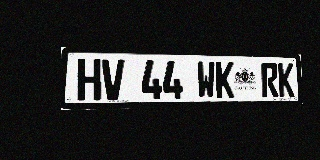4: (141, 60, 162, 100), (163, 61, 183, 99)
H: (77, 59, 101, 101)
K: (216, 62, 234, 98), (278, 63, 294, 97)
R: (261, 63, 278, 97)
V: (102, 59, 124, 100)
W: (196, 61, 215, 99)
